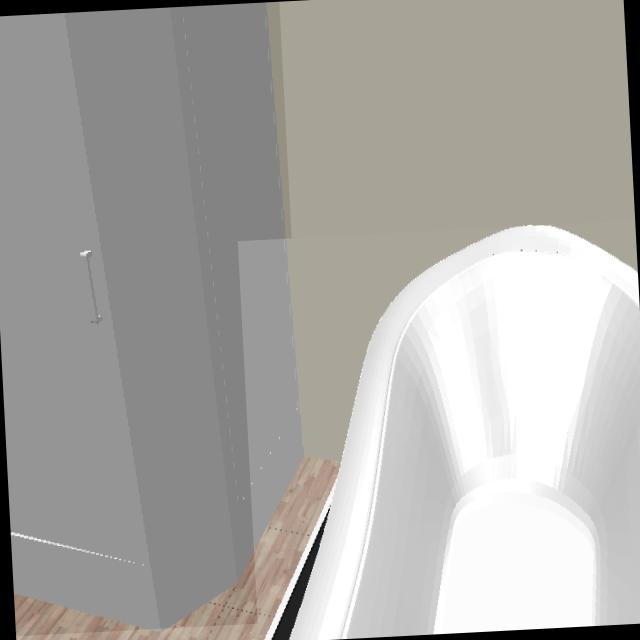bathtube: (260, 227, 640, 640)
shower: (0, 2, 302, 630)
